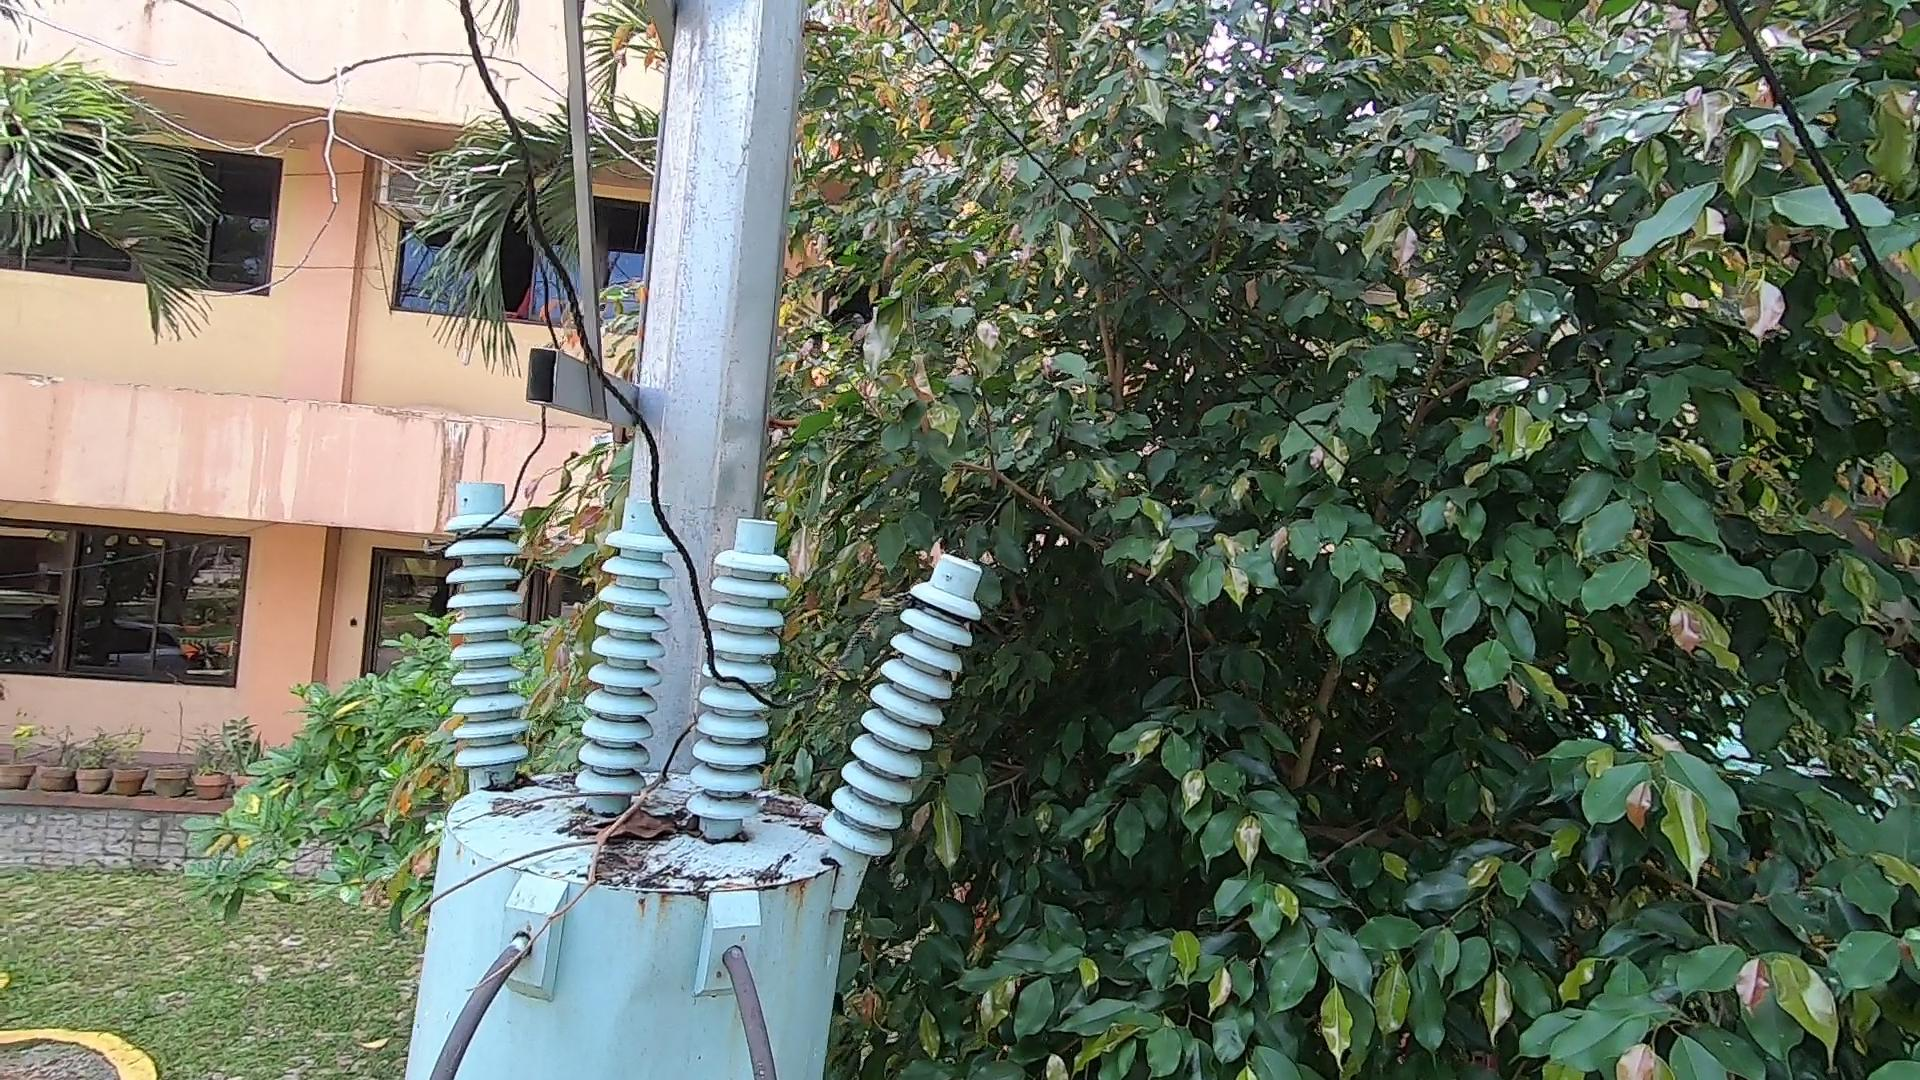leaf: (583, 796, 699, 851), (761, 787, 829, 837), (483, 767, 535, 796)
tree branch: (397, 680, 704, 982)
